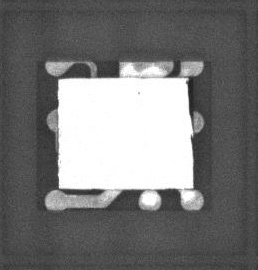DIE_INK: (137, 90, 141, 96)
